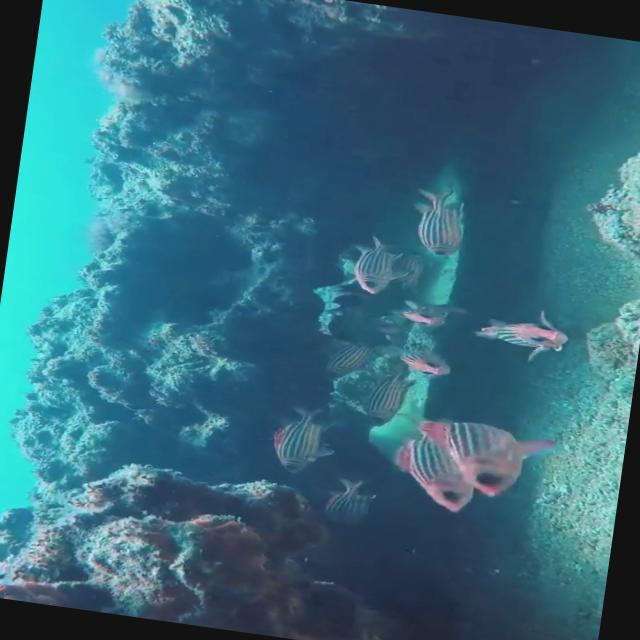Asker Baligi: (428, 404, 560, 502), (401, 186, 488, 269), (468, 300, 572, 368), (262, 402, 342, 478), (338, 232, 408, 302), (316, 478, 372, 533)
